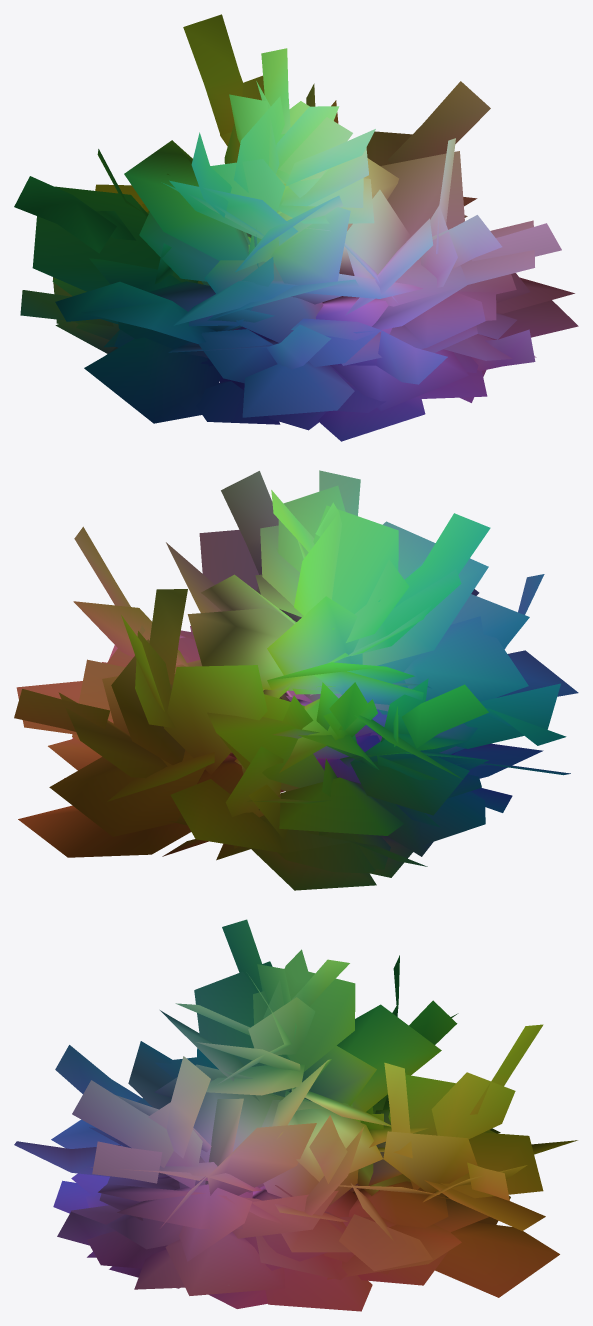
The model's file is Forest_plant_shrub_031_03_a.fbx.
The picture shows the model from 3 angles, top to bottom: view 1: azimuth 30°, elevation 25°; view 2: azimuth 150°, elevation 25°; view 3: azimuth 270°, elevation 25°; orthographic projection. The views are drawn at different scales.
Parts seen in each view (by area): view 1: attribwrangle50; view 2: attribwrangle50; view 3: attribwrangle50.
Part boxes in pixels (x1,y1,x2,y2): attribwrangle50: (14, 14, 578, 441); attribwrangle50: (14, 470, 578, 890); attribwrangle50: (14, 919, 577, 1311).
Size of the model in its own units: 393 by 237 by 431.
